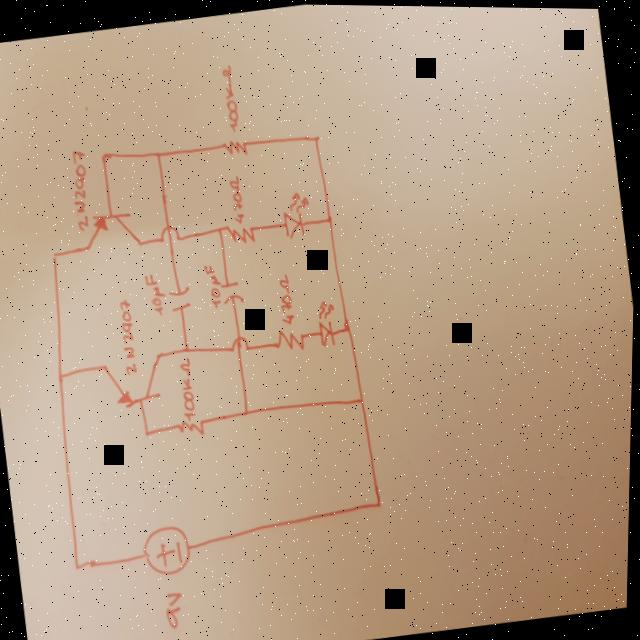capacitor: (168, 282, 196, 314), (220, 276, 248, 306)
crossover: (159, 221, 185, 245), (231, 331, 254, 354)
diode: (279, 187, 315, 240), (315, 298, 342, 347)
junction: (375, 493, 389, 512), (358, 391, 372, 407), (56, 368, 69, 382), (345, 320, 356, 335), (75, 558, 86, 572), (243, 405, 253, 418), (312, 132, 323, 143), (326, 213, 335, 224), (101, 150, 110, 161), (51, 250, 60, 261), (155, 148, 164, 158), (145, 426, 154, 436), (218, 222, 225, 234), (186, 343, 194, 352)
resistor: (271, 321, 312, 355), (176, 415, 210, 440), (230, 221, 260, 248), (221, 134, 252, 156)
source: (141, 520, 197, 581)
text: (66, 144, 100, 232), (116, 295, 145, 376), (218, 61, 243, 132), (180, 357, 202, 418), (142, 270, 169, 318), (278, 272, 300, 327), (228, 172, 249, 229), (203, 260, 226, 311), (164, 586, 189, 631)
transistor: (98, 347, 173, 415), (80, 205, 146, 258)
